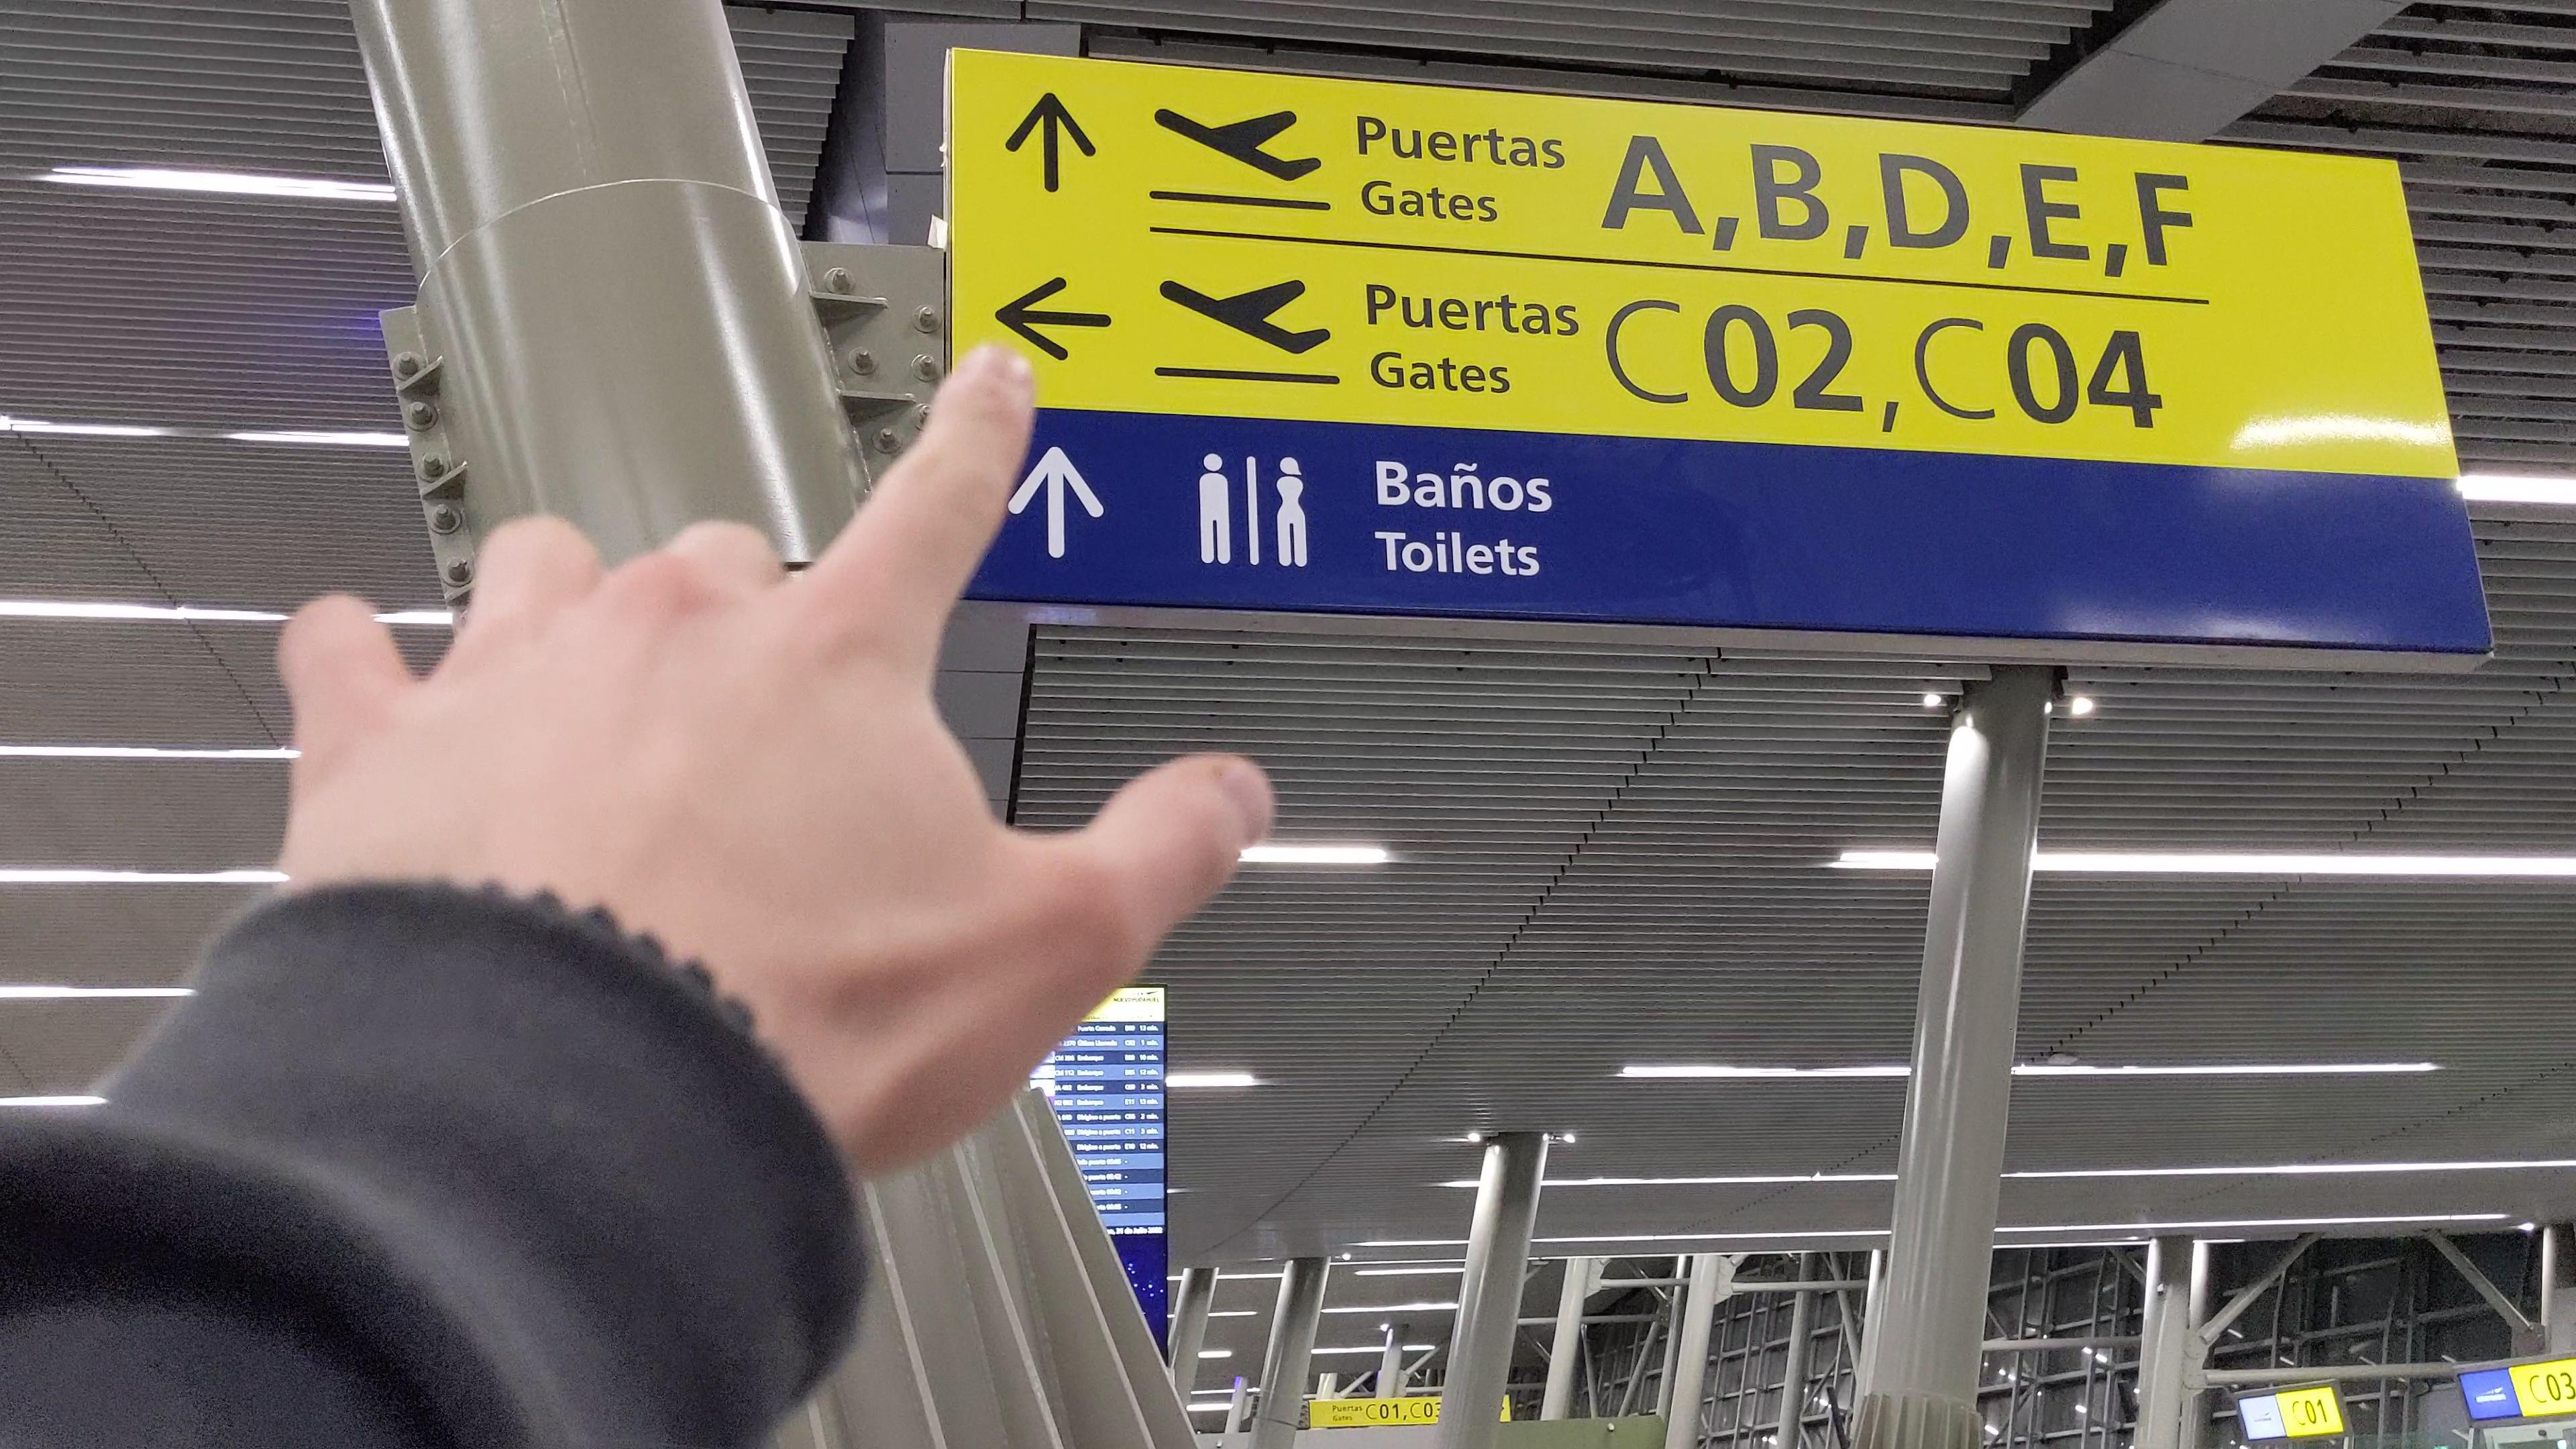airplane symbol: (1150, 106, 1330, 186), (1150, 281, 1336, 357)
bathrooms: (1191, 449, 1322, 573)
thin left arrow: (993, 271, 1115, 363)
thin up arrow: (1012, 446, 1109, 563), (1000, 92, 1099, 200)
